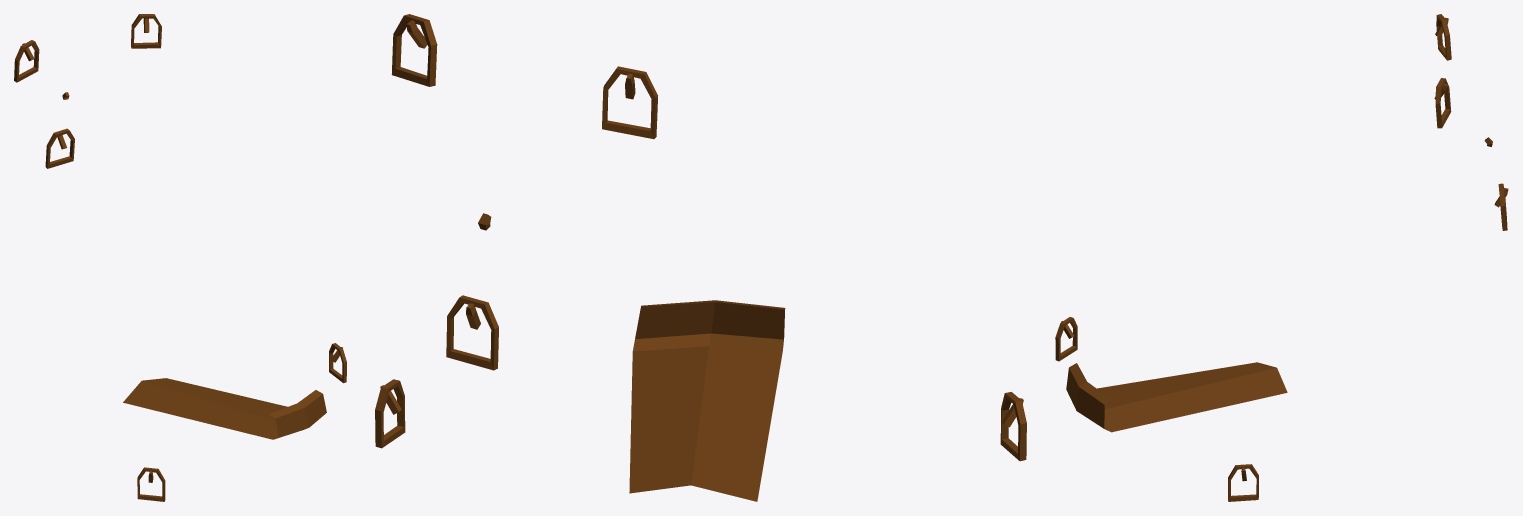
The model's file is Gold_001.obj.
3 renders of one model, left to right at view 1: azimuth 30°, elevation 25°; view 2: azimuth 150°, elevation 25°; view 3: azimuth 270°, elevation 25°, orthographic. The views are drawn at different scales.
Size of the model in its own units: 0.2962 by 0.3267 by 0.3691.
